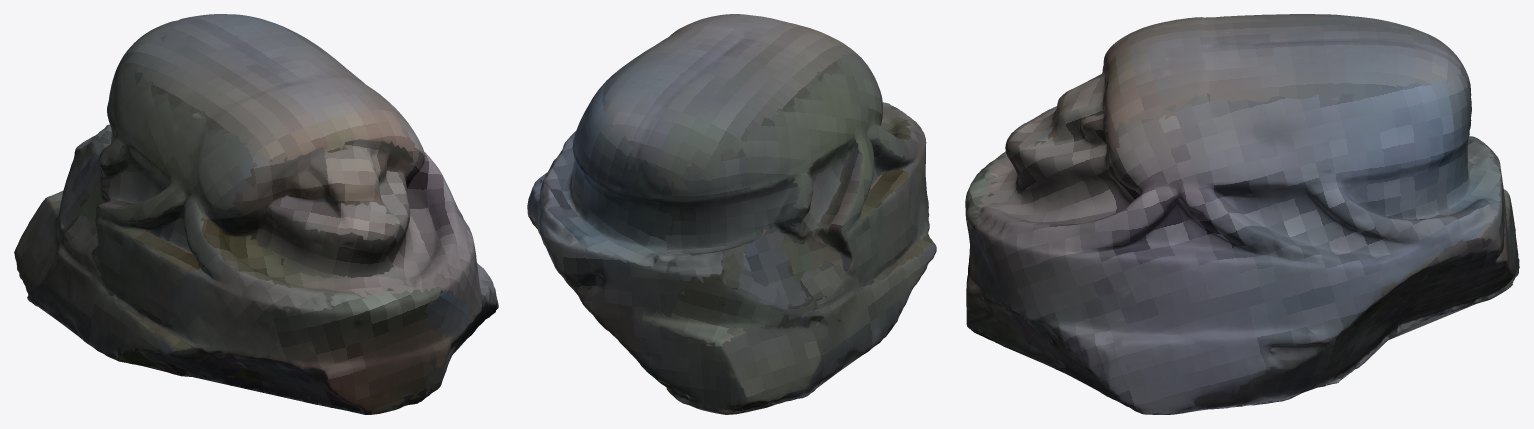
3 renders of one model, left to right at view 1: azimuth 30°, elevation 25°; view 2: azimuth 150°, elevation 25°; view 3: azimuth 270°, elevation 25°, orthographic. The views are drawn at different scales.
Visible parts, largest first — view 1: Object_2; view 2: Object_2; view 3: Object_2.
Boxes of the visible parts, bbox=[...] form: Object_2: bbox=[14, 14, 498, 414]; Object_2: bbox=[527, 14, 936, 414]; Object_2: bbox=[965, 14, 1519, 414].
Size of the model in its own units: 1.57 by 1.15 by 2.04.
1 material, 1 textured.
